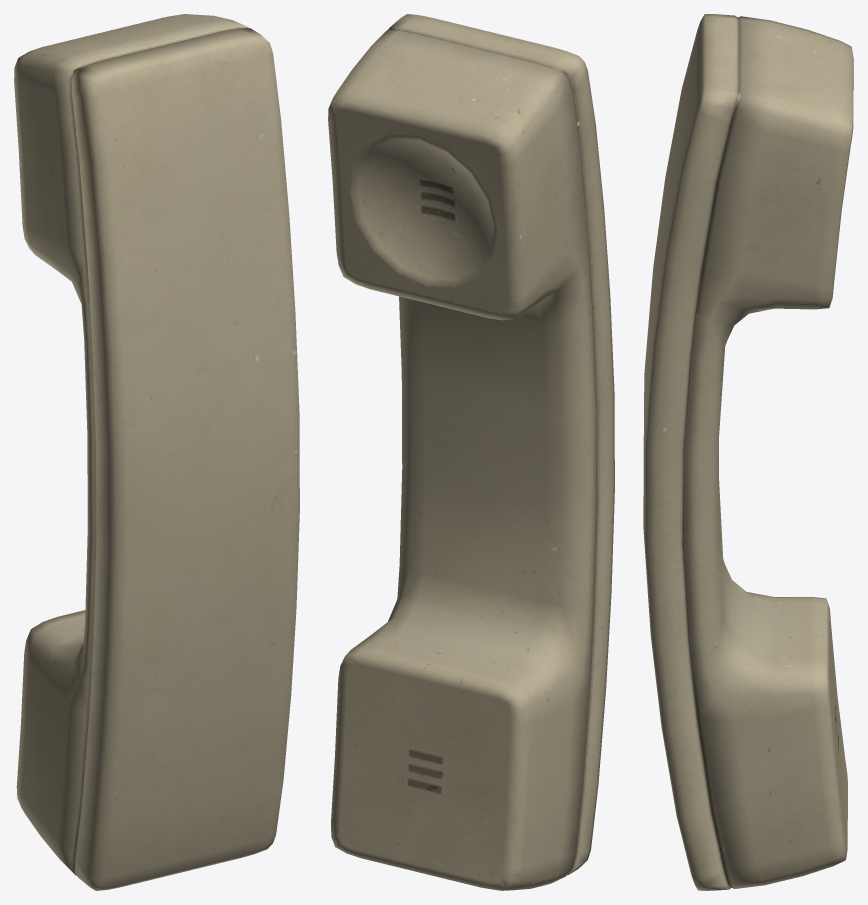
Rendered from Phone_01.glb.
3 views of the same model, side by side, from view 1: azimuth 30°, elevation 25°; view 2: azimuth 150°, elevation 25°; view 3: azimuth 270°, elevation 25° (orthographic). The views are drawn at different scales.
Visible parts, largest first — view 1: polySurface16; view 2: polySurface16; view 3: polySurface16.
Boxes of the visible parts, x1,y1,x2,y2 form: polySurface16: (14, 14, 299, 890); polySurface16: (328, 14, 614, 890); polySurface16: (643, 14, 853, 890).
Size of the model in its own units: 0.0739 by 0.3048 by 0.0725.
1 material, 1 textured.
